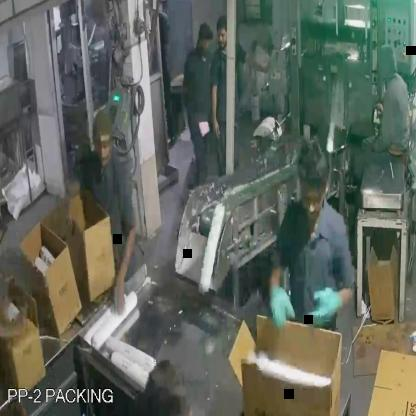glove: (257, 254, 300, 348), (298, 266, 345, 343)
no_glove: (109, 201, 138, 334), (241, 37, 279, 89), (208, 73, 224, 146)
